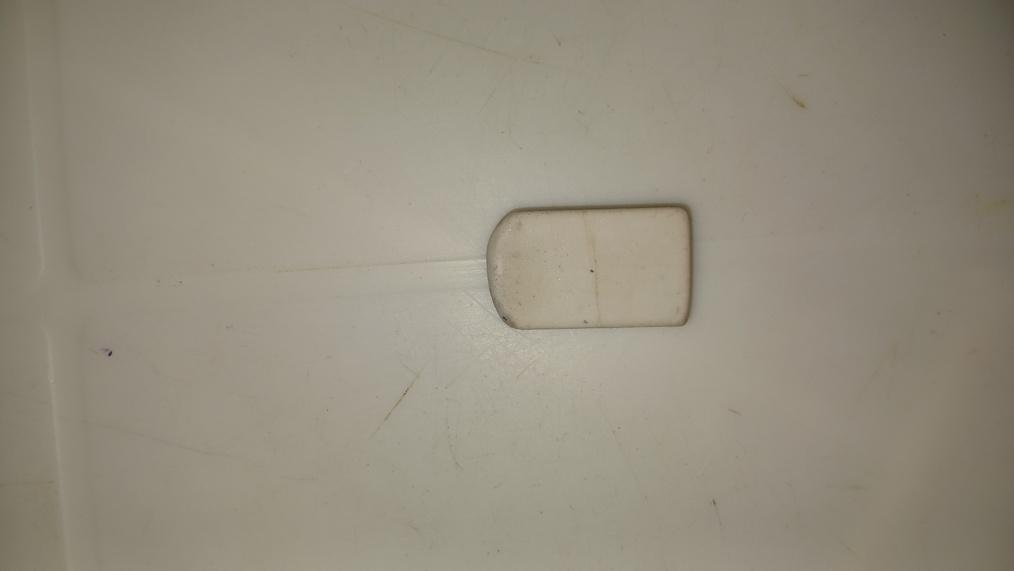Eraser: (484, 204, 696, 333)
